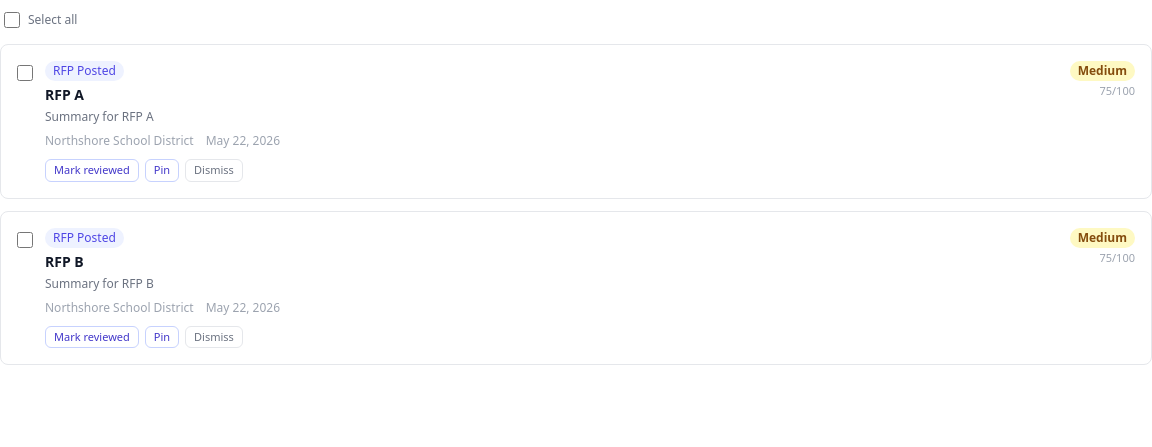
Test: FeedList — multi-select (G3) › select-all-visible selects every row, and toggles off
Click the checkbox with test id "feed-select-all": (12, 20) [4,12,20,28]
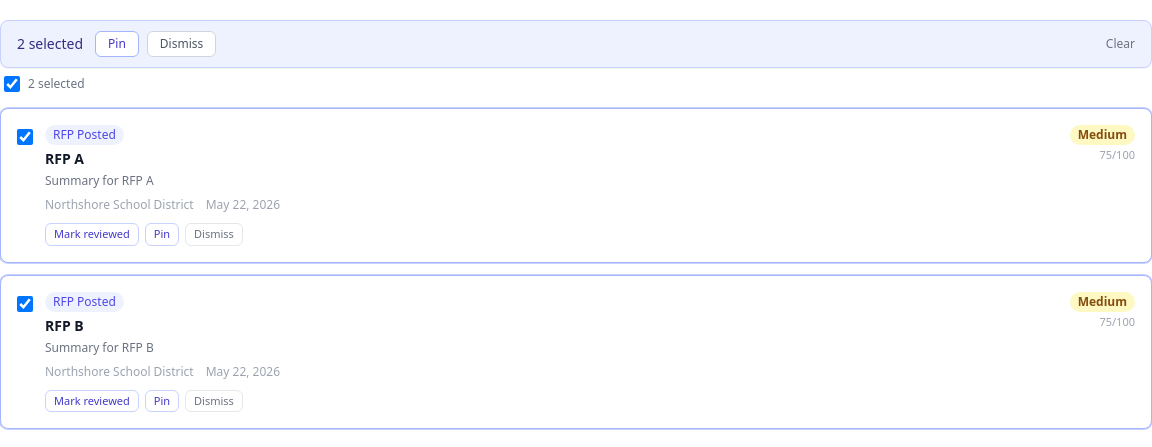
Now the text with test id "bulk-selected-count" reads "2 selected", box [17,34,83,54]
# Toggling again clears the selection (bar disappears).
Click the checkbox with test id "feed-select-all": (12, 84) [4,76,20,92]
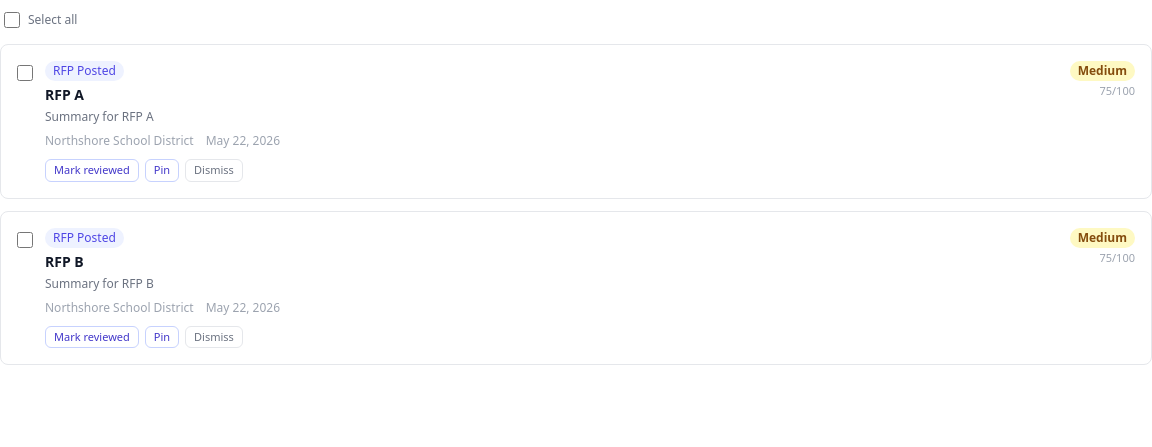
Now the element with test id "bulk-action-bar" is gone
